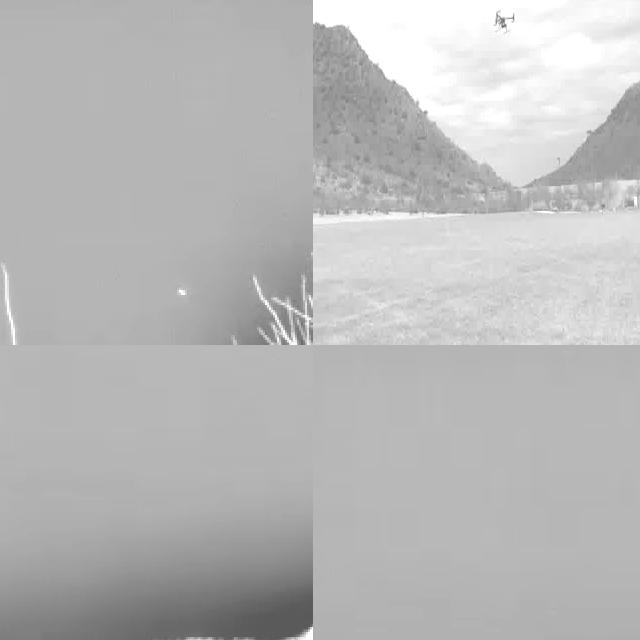0: (168, 280, 194, 312)
drone: (492, 0, 519, 38)
